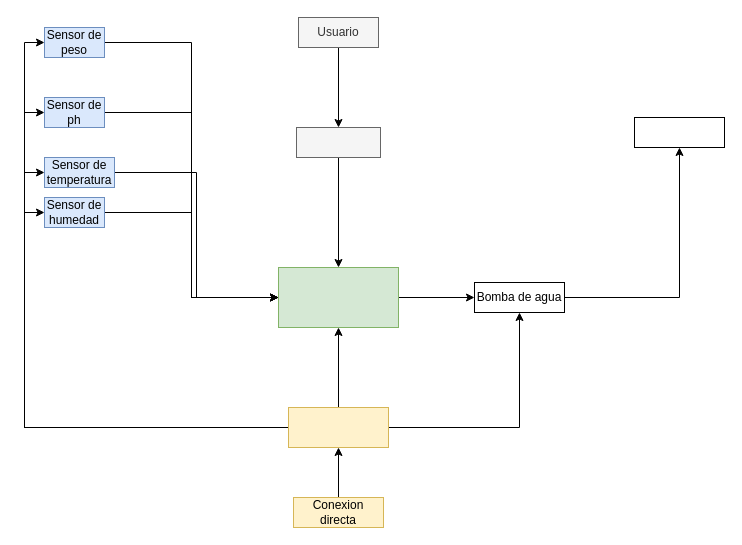
The diagram is 742 pixels wide and 545 high, and some of its shapes have lost their labels. The shapes that lost their labels are listed below. From the top down, each one's box as (x1, y1, x2, y2) in pixels, then its label:
(296, 126, 380, 158): Display oled touch
(634, 116, 724, 148): Regado de plantas
(278, 266, 398, 328): Cerebro (ESP32)
(288, 406, 388, 448): Regulador de voltaje y corriente
